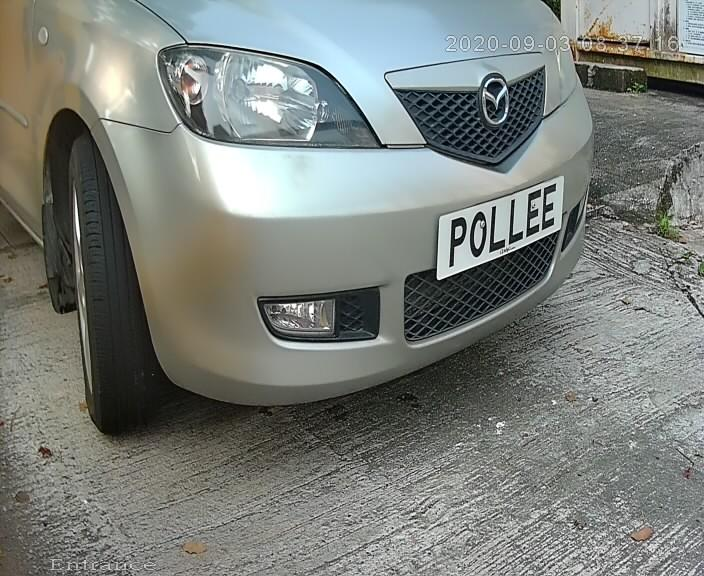License Plate: (412, 168, 584, 290)
